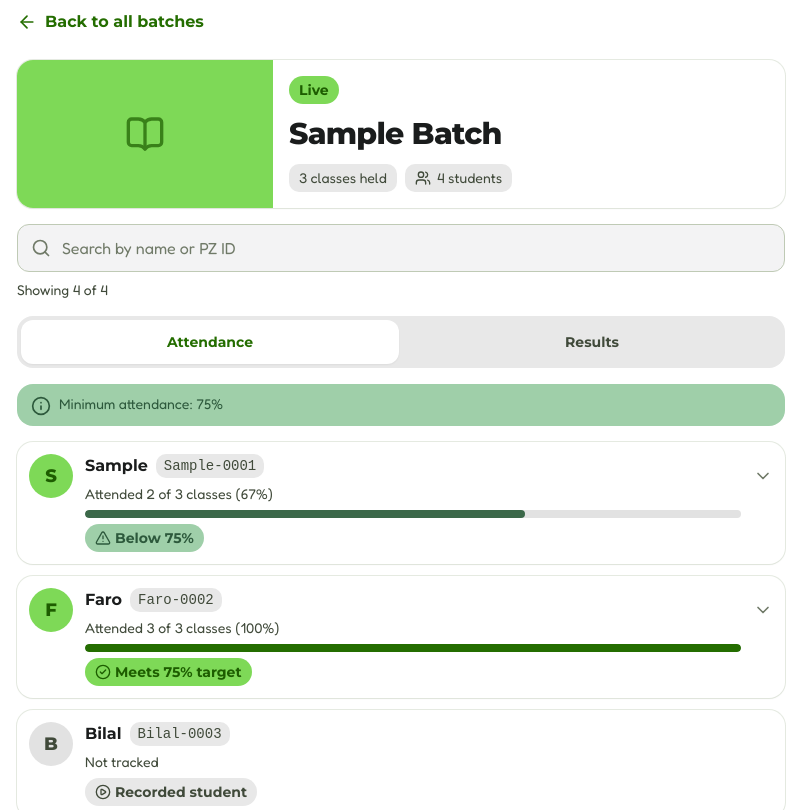
Test: BatchPortal attendance › tabs are real tabs with one tabpanel
What coordinates should you click on to do the following:
click the tab "Results"
I would click on:
 (592, 342)
Its box is [403, 320, 781, 364].
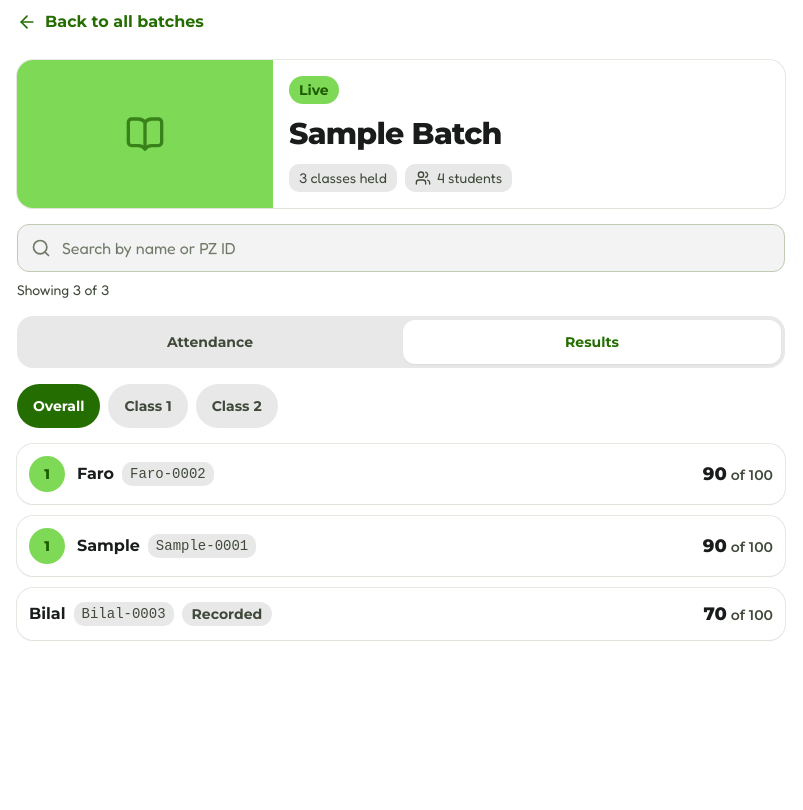
Expected: the number of panels is 1, [17, 384, 785, 640]
